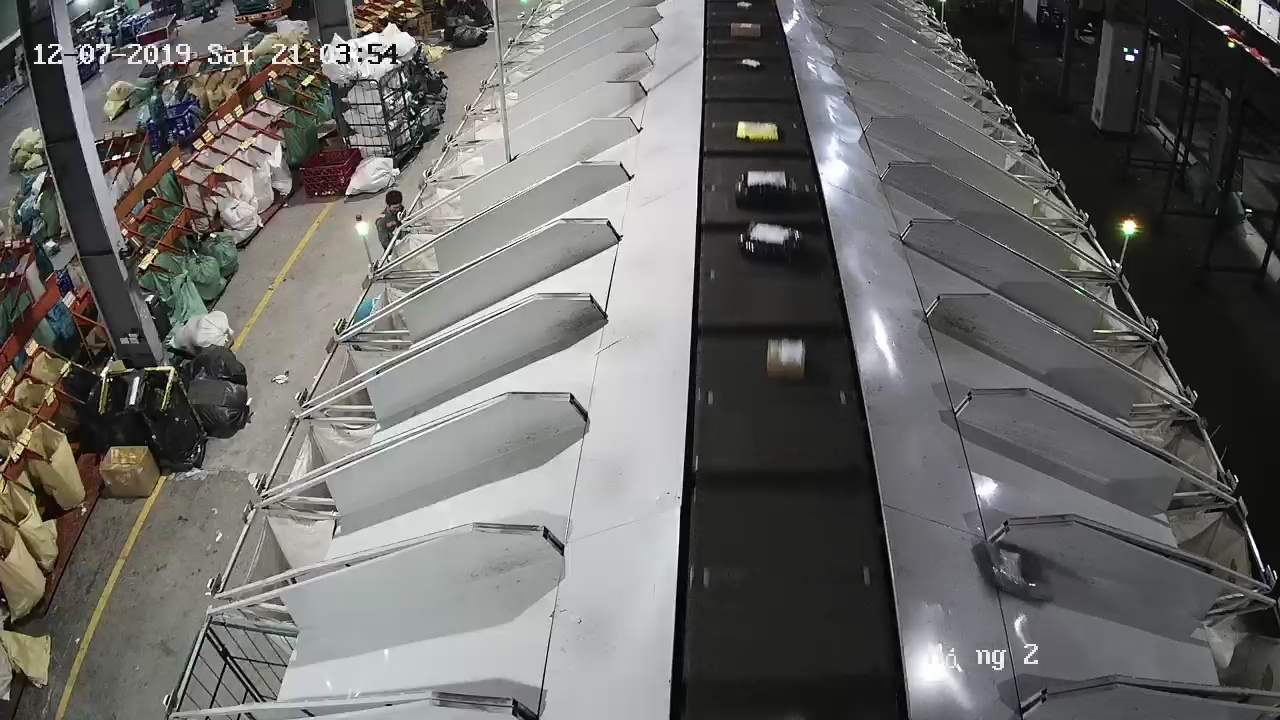parcel: (982, 541, 1055, 603)
